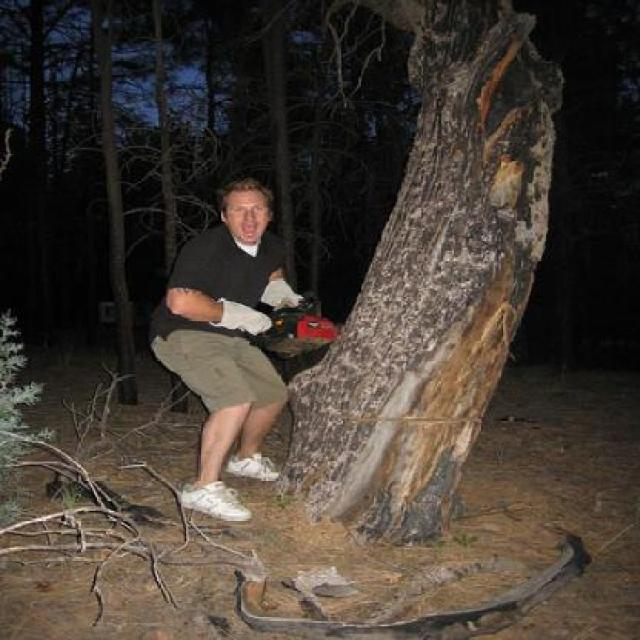Chainsaw: (248, 295, 343, 360)
